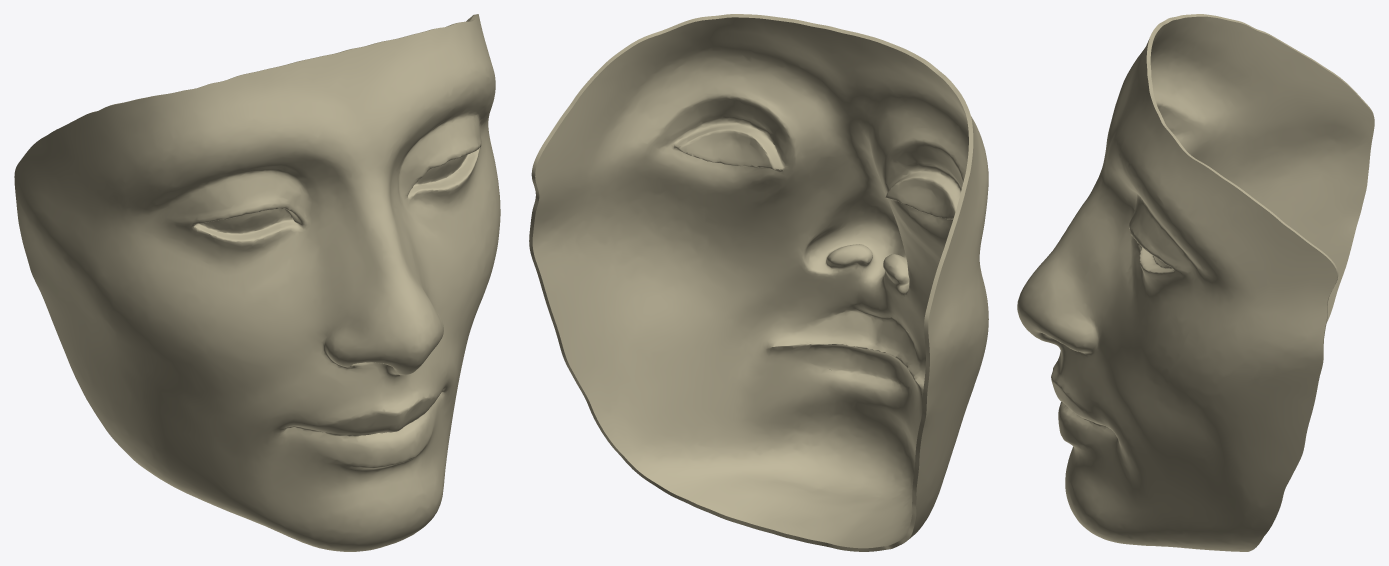
Rendered from mask.glb.
3 views of the same model, side by side, from view 1: azimuth 30°, elevation 25°; view 2: azimuth 150°, elevation 25°; view 3: azimuth 270°, elevation 25° (orthographic). The views are drawn at different scales.
Parts seen in each view (by area): view 1: Object_2; view 2: Object_2; view 3: Object_2.
Part boxes in pixels (box(x1,y1,x2,y2)): Object_2: box(14, 14, 500, 551); Object_2: box(529, 14, 988, 551); Object_2: box(1017, 14, 1374, 551).
Bounding box in the file's own units: 54.03 × 58.19 × 41.17.
